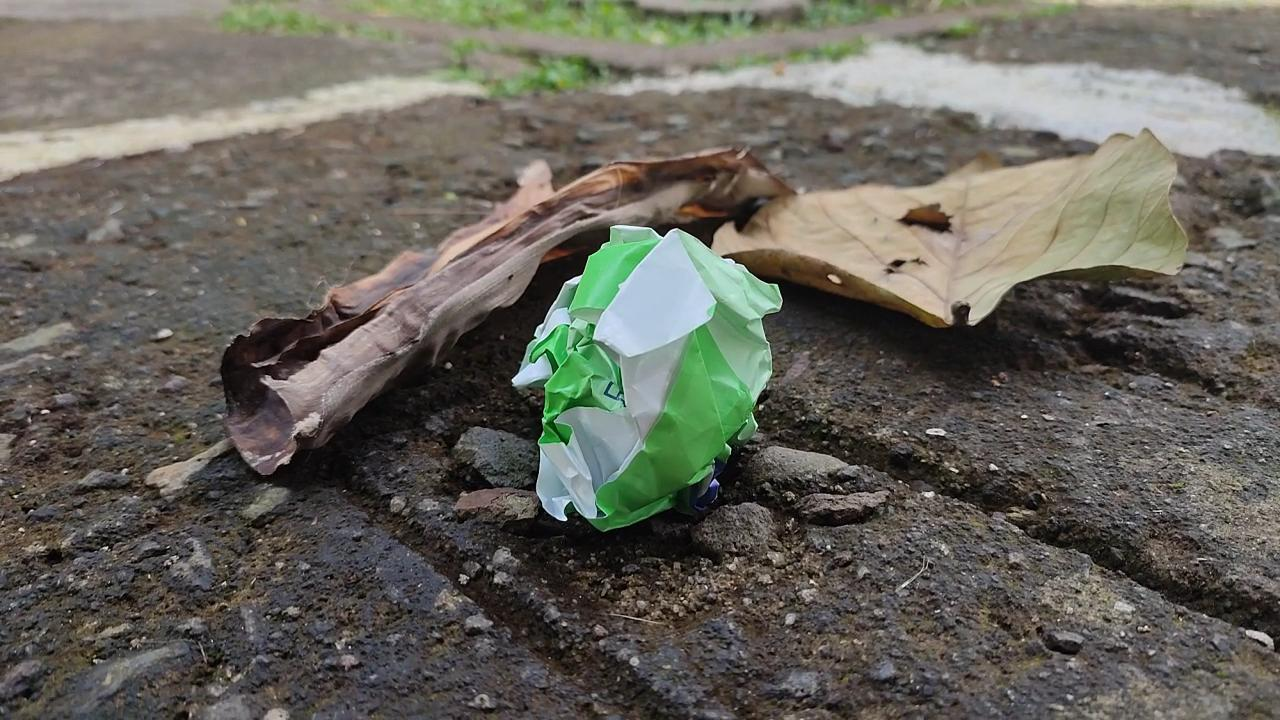Paper: (503, 215, 781, 537)
